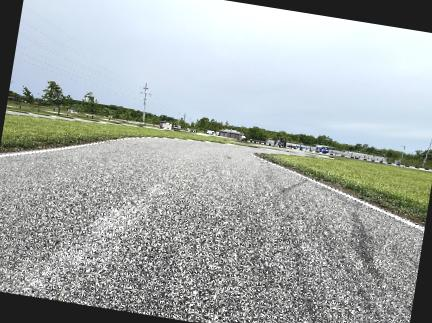Grass: (260, 154, 431, 221), (0, 114, 233, 151)
Lane: (0, 138, 423, 322)
